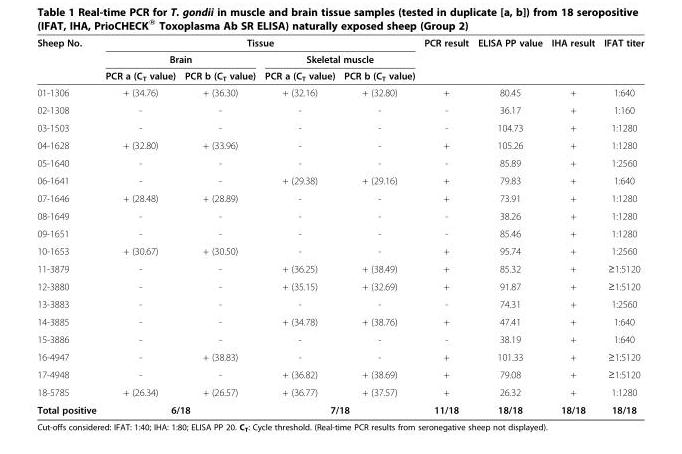table: (36, 36, 643, 415)
table column: (179, 36, 259, 415), (338, 36, 418, 415), (100, 36, 179, 415), (259, 36, 338, 415), (472, 36, 546, 415), (36, 36, 100, 415), (418, 36, 472, 415), (546, 36, 598, 415), (598, 36, 643, 415)
table column header: (36, 36, 643, 84)
table row: (36, 100, 643, 118), (36, 118, 643, 136), (36, 153, 643, 171), (36, 171, 643, 189), (36, 206, 643, 224), (36, 241, 643, 259), (36, 259, 643, 277), (36, 294, 643, 312), (36, 312, 643, 330), (36, 347, 643, 365), (36, 365, 643, 383), (36, 50, 643, 67), (36, 67, 643, 84), (36, 136, 643, 153), (36, 189, 643, 206), (36, 224, 643, 241), (36, 277, 643, 294), (36, 330, 643, 347), (36, 383, 643, 400), (36, 84, 643, 100), (36, 400, 643, 415), (36, 36, 643, 50)
table spanning cell: (100, 36, 418, 50), (472, 36, 546, 84), (36, 36, 100, 84), (100, 50, 259, 67), (259, 50, 418, 67), (418, 36, 472, 84), (546, 36, 598, 84), (100, 400, 259, 415), (259, 400, 418, 415), (598, 36, 643, 84)
